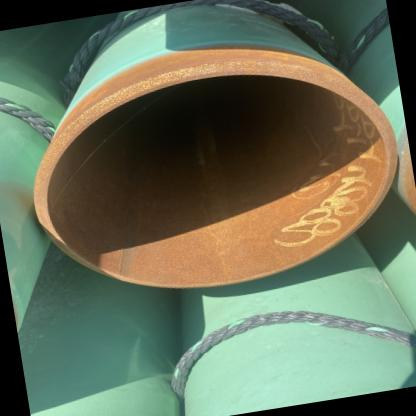clean: (137, 40, 220, 108)
